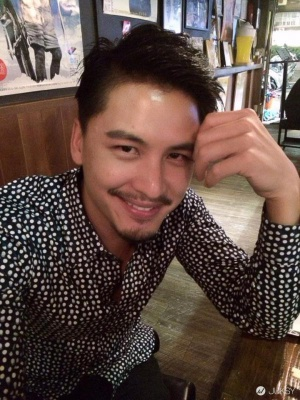male: (62, 28, 231, 259)
